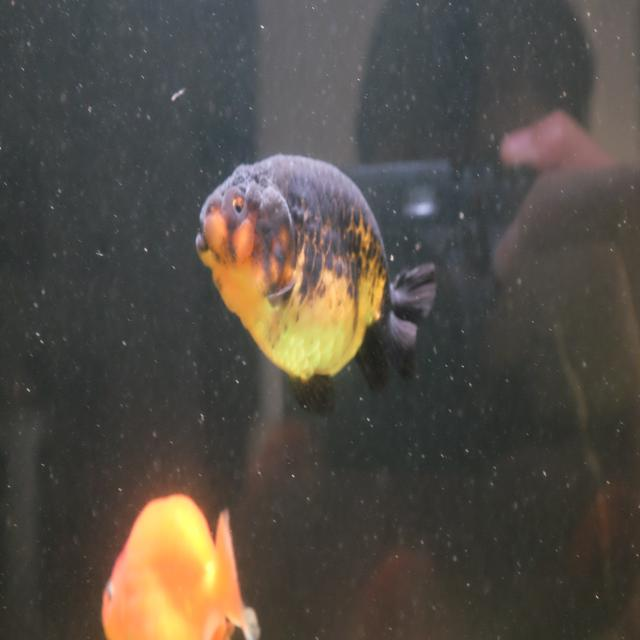Goldfish: (196, 153, 437, 422), (100, 491, 262, 640)
